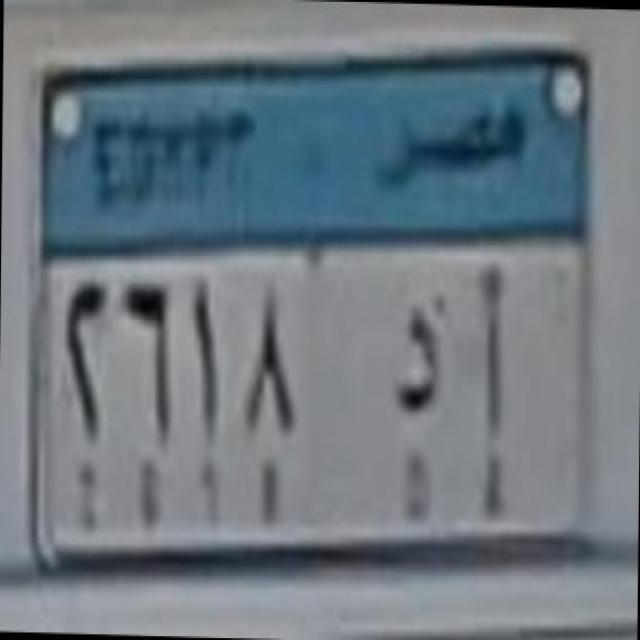1: (184, 277, 234, 444)
2: (53, 273, 121, 447)
6: (115, 277, 180, 445)
8: (240, 271, 302, 445)
alef: (469, 252, 516, 452)
daal: (388, 292, 455, 432)
